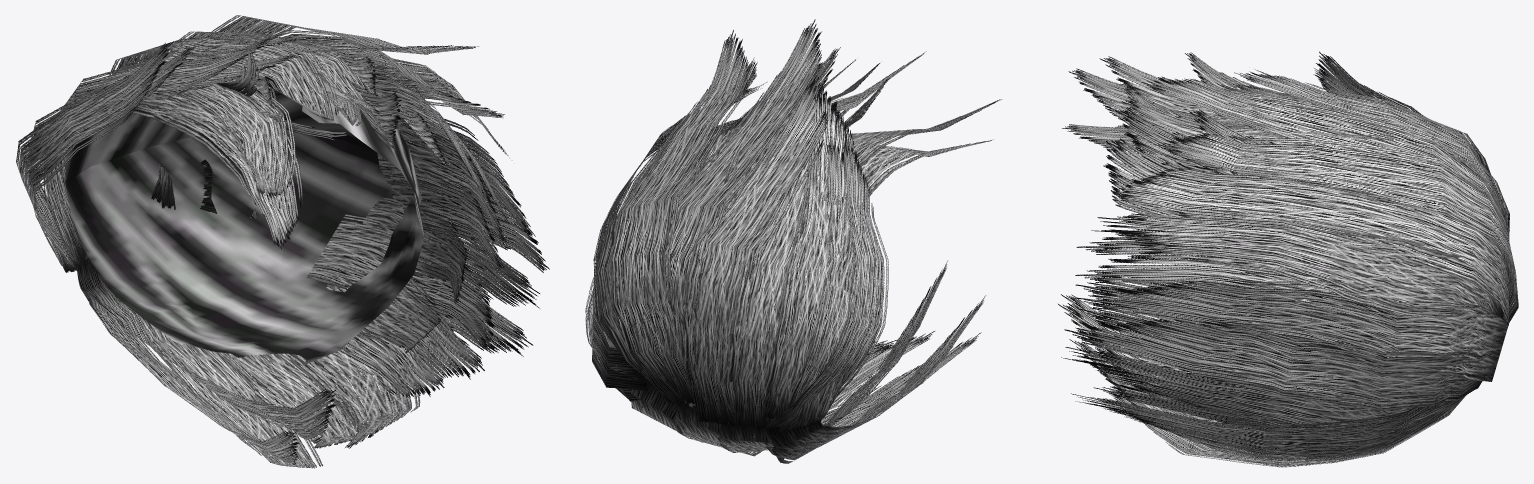
Rendered from Female_Hair3.FBX.
The picture shows the model from 3 angles, left to right: view 1: azimuth 30°, elevation 25°; view 2: azimuth 150°, elevation 25°; view 3: azimuth 270°, elevation 25°; orthographic projection. The views are drawn at different scales.
Visible parts, largest first — view 1: Slot_Head_CHfHair07; view 2: Slot_Head_CHfHair07; view 3: Slot_Head_CHfHair07.
Part boxes in pixels (x1,y1,x2,y2): Slot_Head_CHfHair07: (16,15,549,468); Slot_Head_CHfHair07: (585,19,1001,463); Slot_Head_CHfHair07: (1058,51,1518,467).
Size of the model in its own units: 10.66 by 13.3 by 12.13.
